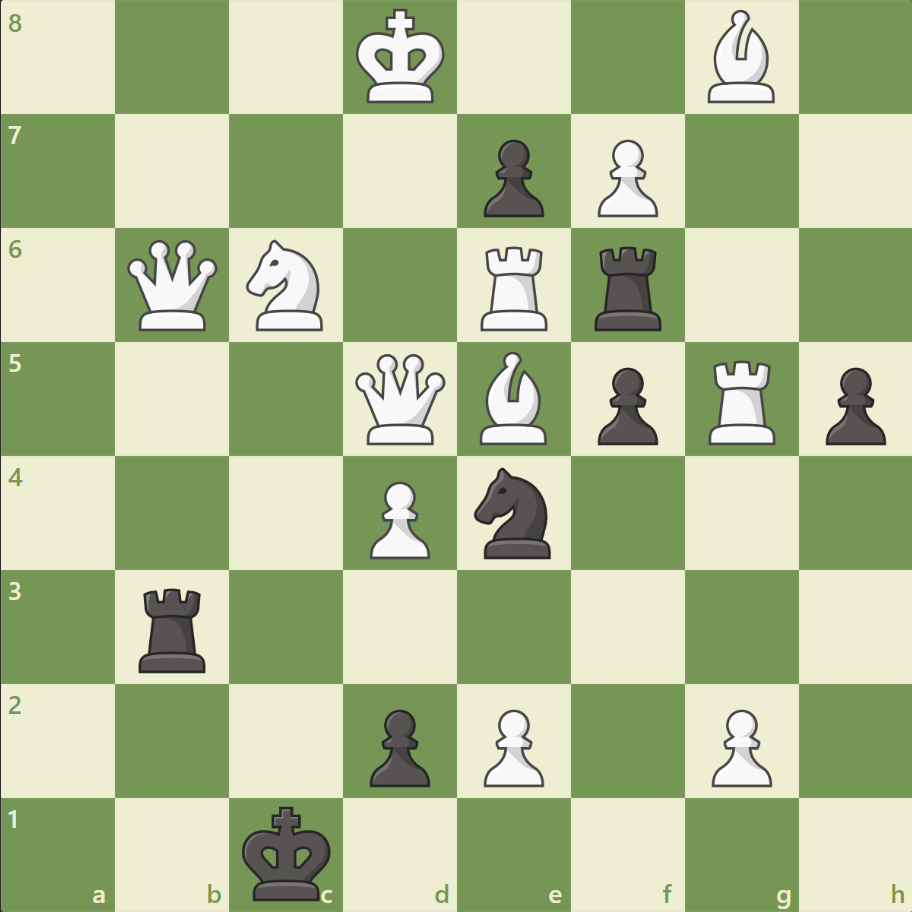B: (698, 6, 782, 109), (471, 347, 555, 449)
K: (351, 4, 451, 112)
N: (238, 234, 335, 337)
P: (474, 700, 549, 791), (701, 700, 776, 791), (588, 132, 662, 223), (361, 473, 435, 564)
Q: (351, 349, 450, 449), (124, 236, 223, 335)
R: (473, 239, 556, 336), (700, 352, 783, 449)
k: (238, 798, 338, 906)
n: (465, 461, 562, 564)
p: (474, 132, 549, 223), (588, 359, 662, 450), (815, 359, 889, 450), (361, 700, 435, 791)
r: (587, 239, 670, 336), (133, 579, 215, 676)
